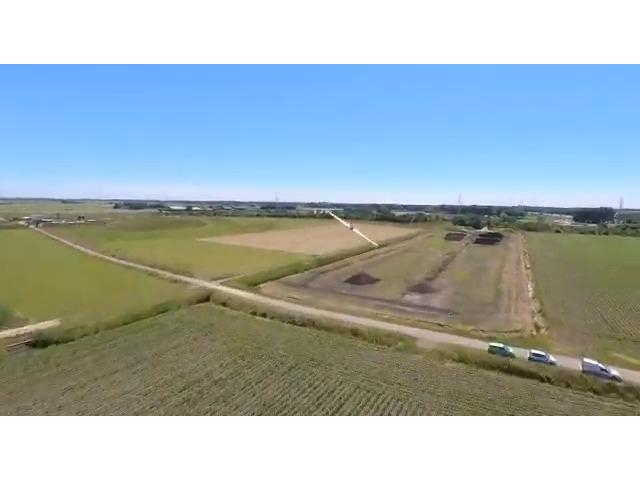Anti-Drone: (321, 202, 383, 252)
